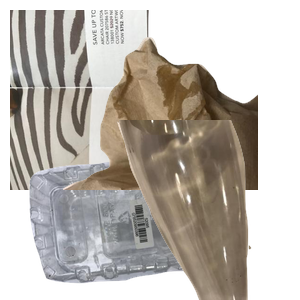glass: (115, 120, 300, 300)
paper: (10, 10, 250, 190)
plastic: (27, 152, 247, 300)
trash: (60, 35, 300, 215)
